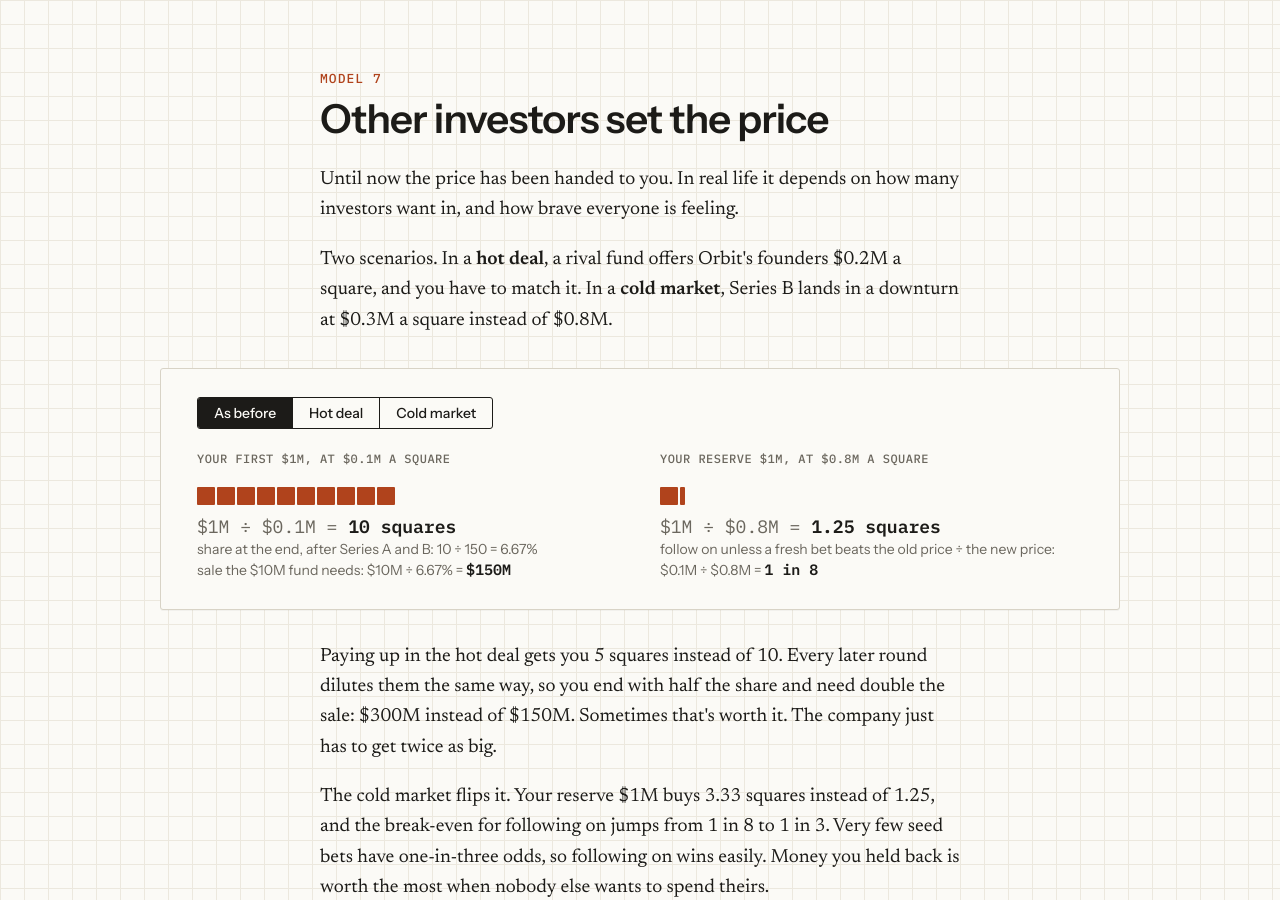
Test case: Model 7: other investors set the price › halves your squares and doubles the exit in a hot deal
Click the button "Hot deal" at (336, 413), box [292, 398, 379, 428]
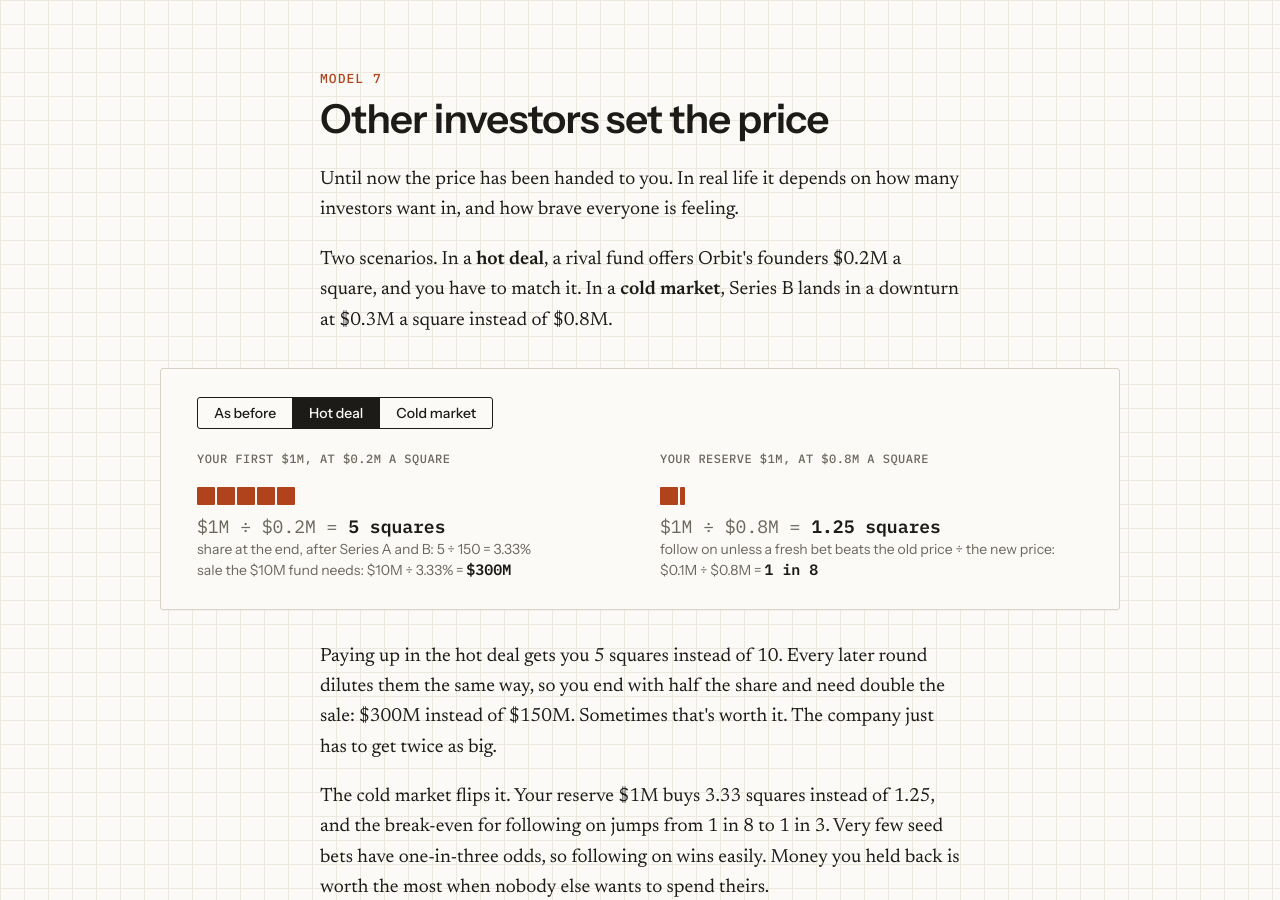
Expected: the text with test id "first-squares" reads "5 squares", [348, 515, 445, 538]
Expected: the text with test id "exit-needed-7" reads "$300M", [466, 560, 511, 579]
